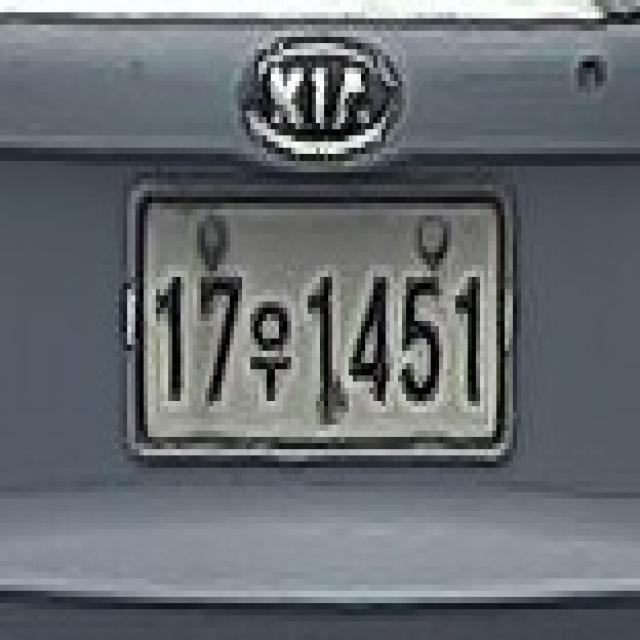1: (148, 264, 193, 424), (447, 258, 492, 418), (300, 264, 344, 424)
4: (344, 264, 394, 418)
5: (398, 258, 447, 424)
7: (193, 264, 242, 424)
license_plate: (119, 172, 521, 480)
u: (247, 296, 296, 418)
